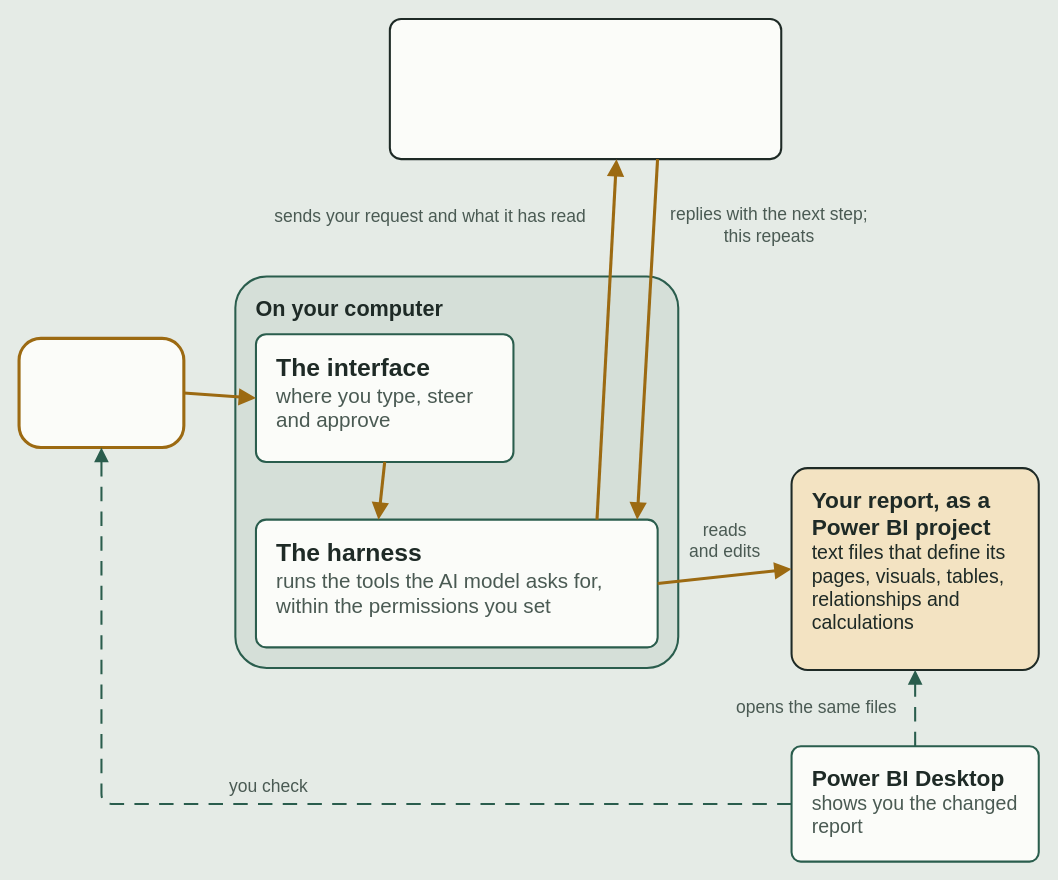
This 1058x880 diagram has some shape labels left out. Here are the shapes that lost their labels. From the top down, the centre of each, then its label:
point 585,89: The AI model runs on a server elsewhere and works out what to do next
point 101,392: You ask for a change
